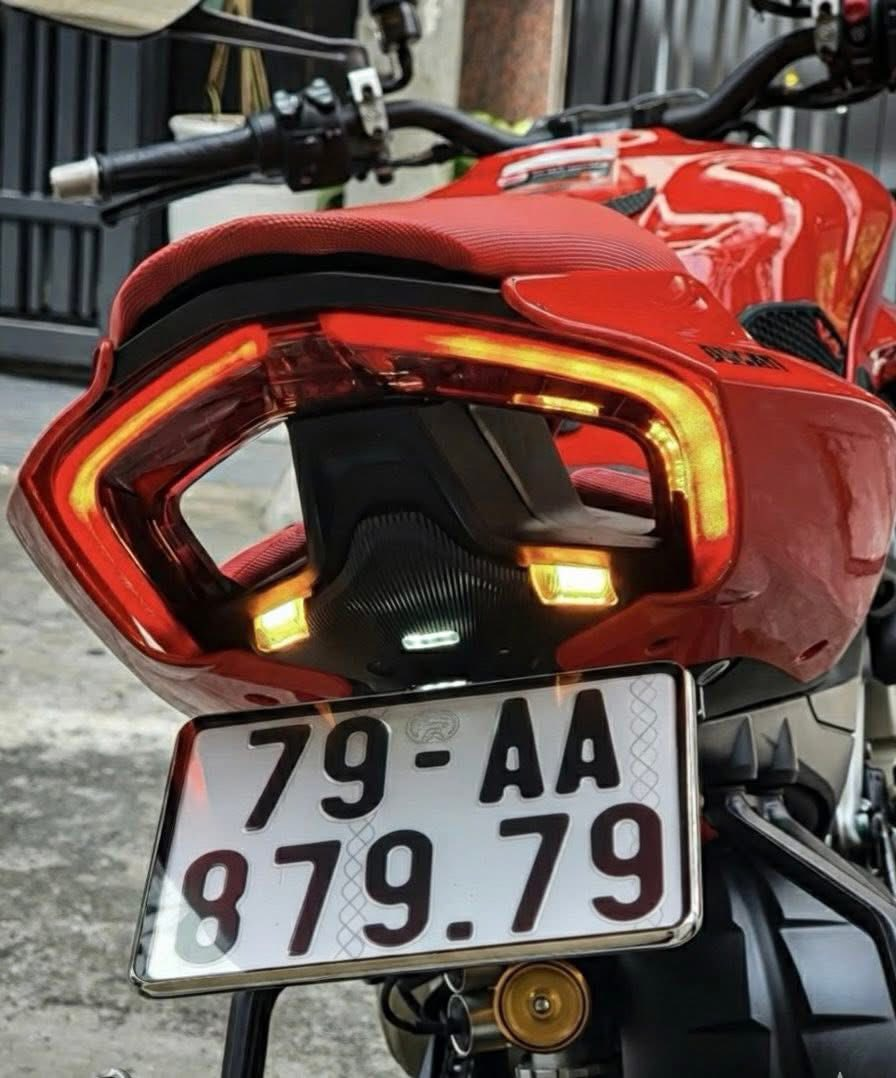bien_so: (120, 635, 720, 1011)
